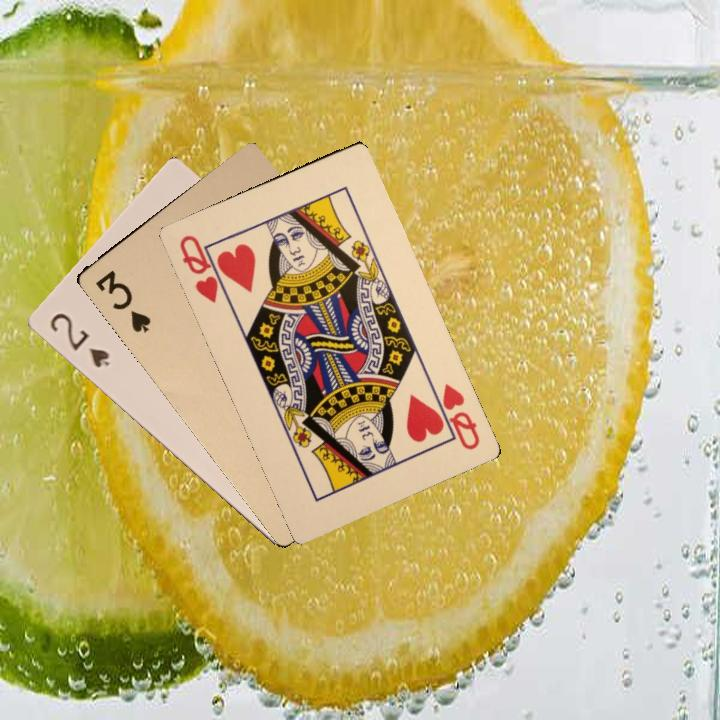2s: (46, 308, 112, 370)
3s: (91, 266, 154, 335)
Qh: (175, 230, 231, 306), (427, 379, 483, 453)
